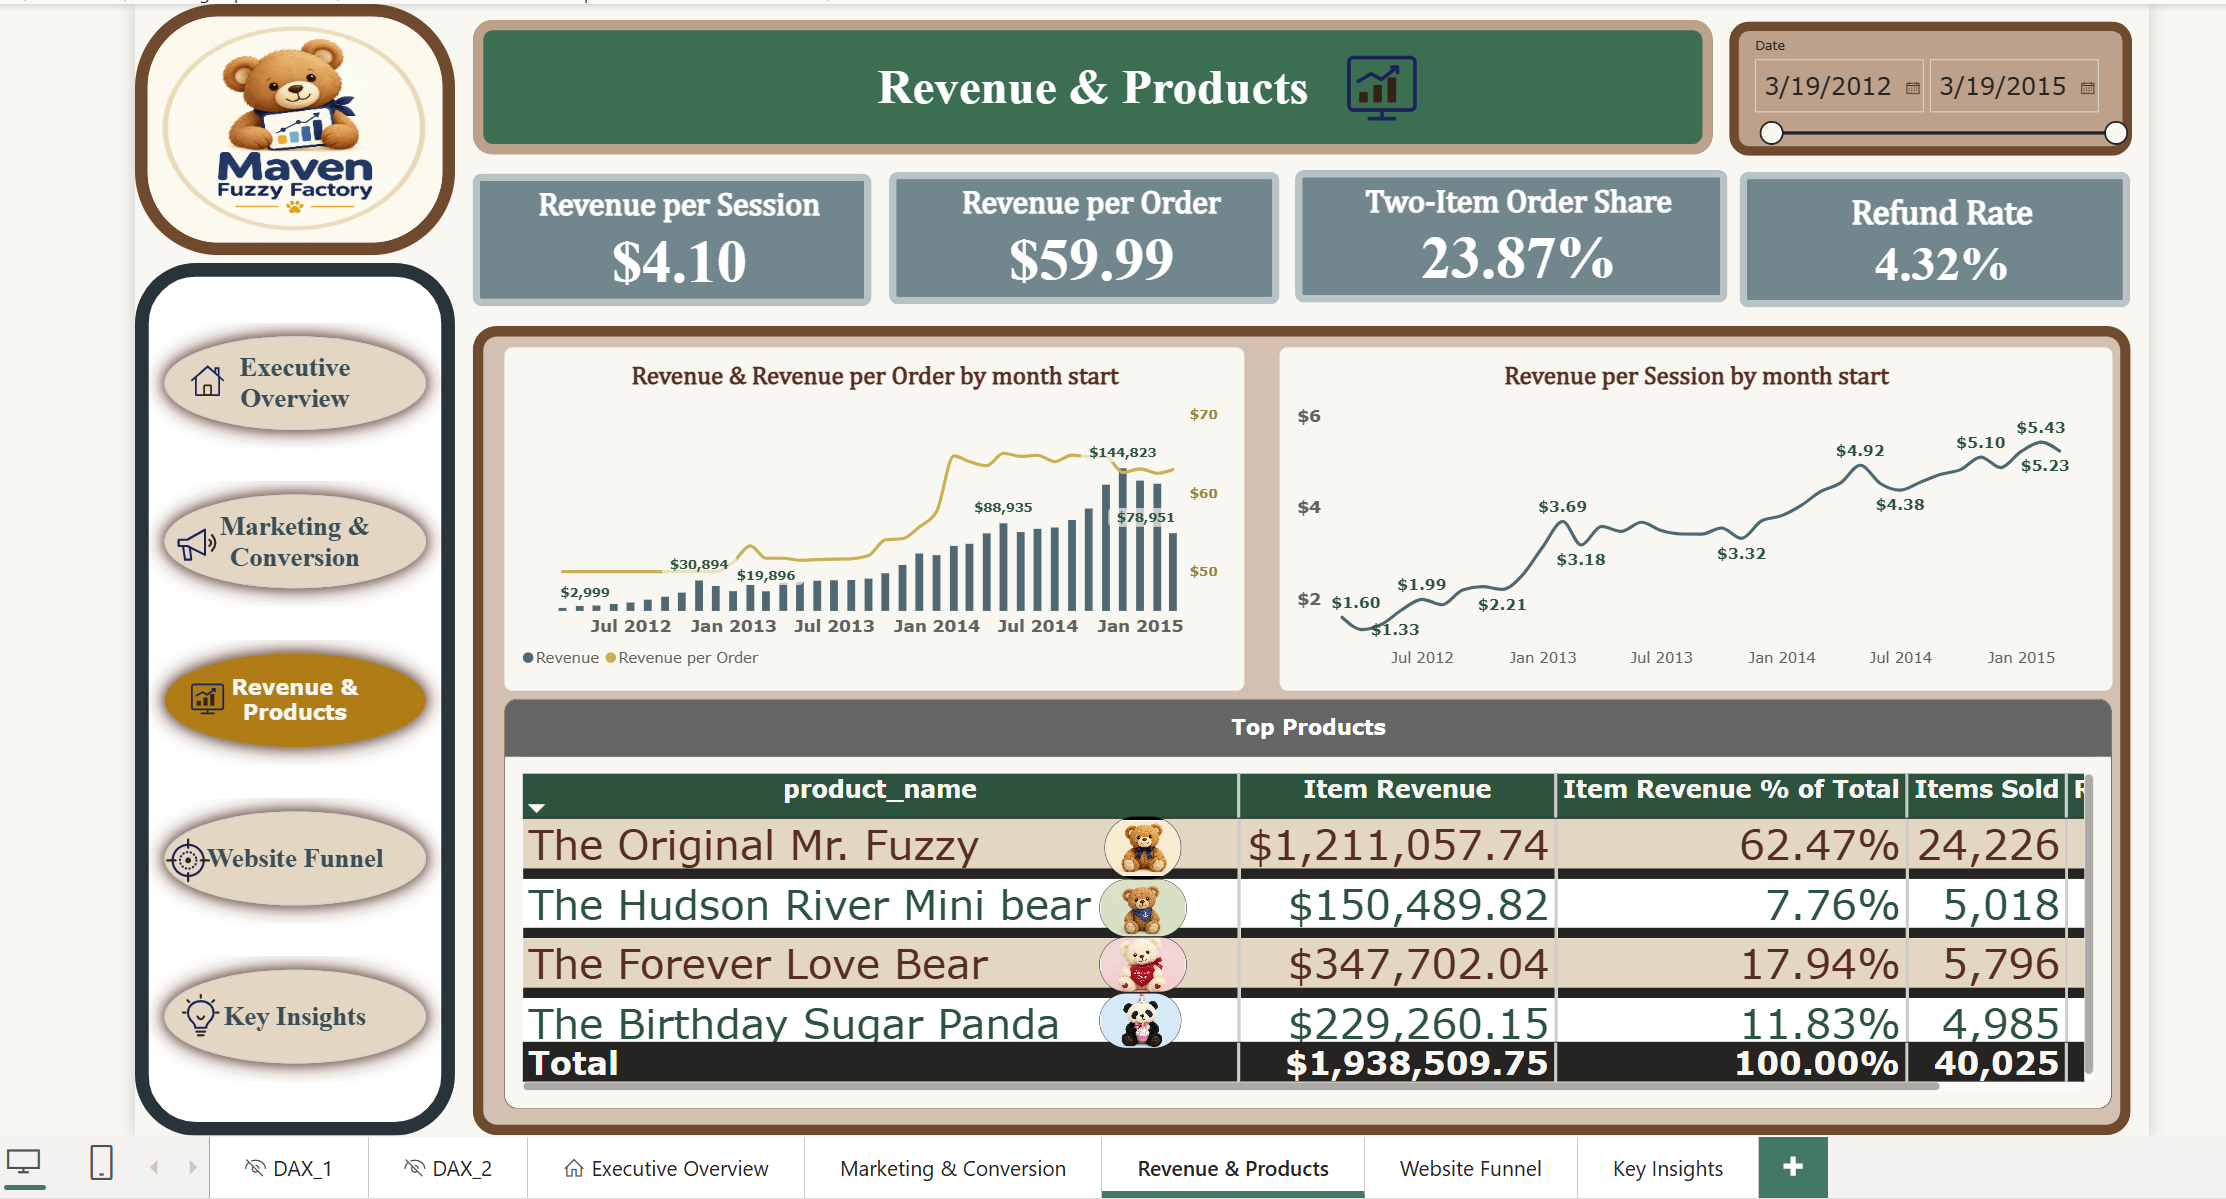

The page's visual inventory and layout, read from the dashboard file:
{"tool":"powerbi","page":{"name":"Revenue & Products","canvas":[1920,1080],"ordinal":4},"visuals":[{"type":"group","id":"g1","title":"Group 1","box":[0,247.1,305.1,832],"z":0},{"type":"shape","box":[0,247.1,305.1,832],"z":0,"group":"g1"},{"type":"group","id":"g2","title":"Group 3","box":[0,0,1904,289.8],"z":1000},{"type":"shape","box":[322.7,15.1,1182.4,128.6],"z":1000,"group":"g4"},{"type":"shape","box":[1520,16,384,128],"z":2000,"group":"g4"},{"type":"group","id":"g3","title":"Group 4","box":[322.7,307.6,1580.8,771.5],"z":2000},{"type":"shape","box":[322.7,307.6,1580.8,771.5],"z":3000,"group":"g3"},{"type":"cardVisual","fields":{"Data":["N_Measures.Two-Item Order Share"]},"box":[1106.4,158.7,412.5,126.9],"z":5000,"group":"g2"},{"type":"cardVisual","fields":{"Data":["N_Measures.Refund Rate"]},"box":[1529.5,160.8,372.3,129],"z":6000,"group":"g2"},{"type":"image","box":[0,0,305.1,239.5],"z":7000,"group":"g4"},{"type":"slicer","fields":{"Values":["Dates.Date"]},"box":[1536,32,368,112],"z":8000,"group":"g4"},{"type":"pageNavigator","box":[0,287.4,305.1,753.8],"z":9000,"group":"g1"},{"type":"lineClusteredColumnComboChart","title":"Revenue & Revenue per Order by month start","fields":{"Category":["Dates.Month Start"],"Y":["N_Measures.Revenue"],"Y2":["N_Measures.Revenue per Order"]},"box":[353,327.8,705.9,327.7],"z":10000,"group":"g3"},{"type":"lineChart","title":"Revenue per Session by month start","fields":{"Category":["Dates.Month Start"],"Y":["N_Measures.Revenue per Session"]},"box":[1091.6,327.8,794.2,327.7],"z":11000,"group":"g3"},{"type":"image","box":[50.4,335.3,38.5,47.5],"z":14000,"group":"g1"},{"type":"image","box":[25.2,491.6,64,48],"z":15000,"group":"g1"},{"type":"image","box":[50.4,642.9,38.5,40.7],"z":16000,"group":"g1"},{"type":"image","box":[27.5,772.2,47.9,88.2],"z":17000,"group":"g1"},{"type":"cardVisual","fields":{"Data":["N_Measures.Revenue per Order"]},"box":[719.3,160.8,372.3,126.9],"z":18000,"group":"g2"},{"type":"cardVisual","fields":{"Data":["N_Measures.Revenue per Session"]},"box":[322.7,161.4,380.7,126.1],"z":19000,"group":"g2"},{"type":"tableEx","title":"Top Products","fields":{"Values":["maven_fuzzy_factory products.product_name","N_Measures.Item Revenue","N_Measures.Item Revenue % of Total","N_Measures.Items Sold","N_Measures.Refund Rate"]},"box":[353,663.1,1532.8,390.8],"z":20000,"group":"g3"},{"type":"image","box":[925.3,774,73.1,60.5],"z":24500,"group":"g3"},{"type":"image","box":[920.2,834.5,83.2,55.5],"z":25000,"group":"g3"},{"type":"image","box":[36,943.6,52,47.5],"z":25000,"group":"g1"},{"type":"image","box":[920.2,890,83.2,52.9],"z":25500,"group":"g3"},{"type":"image","box":[1144.6,40.3,88.2,80.7],"z":26000,"group":"g4"},{"type":"image","box":[920.2,942.9,78.2,52.9],"z":26000,"group":"g3"},{"type":"group","id":"g4","title":"Group 2","box":[0,0,1904,239.5],"z":26002,"group":"g2"}]}

Visuals, with their boxes on the page's 1920x1080 design canvas (x1, y1, x2, y2). These are canvas units, not pixel positions in the 2226x1199 screenshot, which may show the page scaled, cropped or inside an application window:
"Group 1" group: [left=0, top=247, right=305, bottom=1079]
shape: [left=0, top=247, right=305, bottom=1079]
"Group 3" group: [left=0, top=0, right=1904, bottom=290]
shape: [left=323, top=15, right=1505, bottom=144]
shape: [left=1520, top=16, right=1904, bottom=144]
"Group 4" group: [left=323, top=308, right=1904, bottom=1079]
shape: [left=323, top=308, right=1904, bottom=1079]
cardVisual - N_Measures.Two-Item Order Share: [left=1106, top=159, right=1519, bottom=286]
cardVisual - N_Measures.Refund Rate: [left=1530, top=161, right=1902, bottom=290]
image: [left=0, top=0, right=305, bottom=240]
slicer - Dates.Date: [left=1536, top=32, right=1904, bottom=144]
pageNavigator: [left=0, top=287, right=305, bottom=1041]
"Revenue & Revenue per Order by month start" lineClusteredColumnComboChart: [left=353, top=328, right=1059, bottom=656]
"Revenue per Session by month start" lineChart: [left=1092, top=328, right=1886, bottom=656]
image: [left=50, top=335, right=89, bottom=383]
image: [left=25, top=492, right=89, bottom=540]
image: [left=50, top=643, right=89, bottom=684]
image: [left=28, top=772, right=75, bottom=860]
cardVisual - N_Measures.Revenue per Order: [left=719, top=161, right=1092, bottom=288]
cardVisual - N_Measures.Revenue per Session: [left=323, top=161, right=703, bottom=288]
"Top Products" tableEx: [left=353, top=663, right=1886, bottom=1054]
image: [left=925, top=774, right=998, bottom=834]
image: [left=920, top=834, right=1003, bottom=890]
image: [left=36, top=944, right=88, bottom=991]
image: [left=920, top=890, right=1003, bottom=943]
image: [left=1145, top=40, right=1233, bottom=121]
image: [left=920, top=943, right=998, bottom=996]
"Group 2" group: [left=0, top=0, right=1904, bottom=240]
